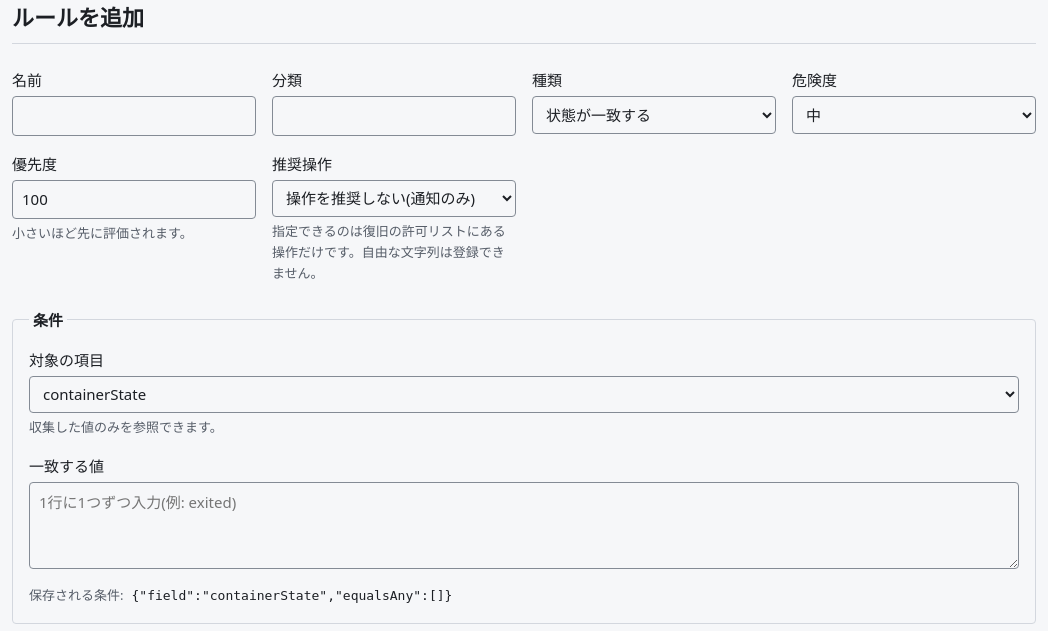
RuleEditView › サーバーが条件を拒否したらその理由を出し、一覧へ移らない
The image size is (1048, 631).
Type "重いルール" into the field with id "rule-name" at (134, 116), box x1=12 y1=96 x2=256 y2=136
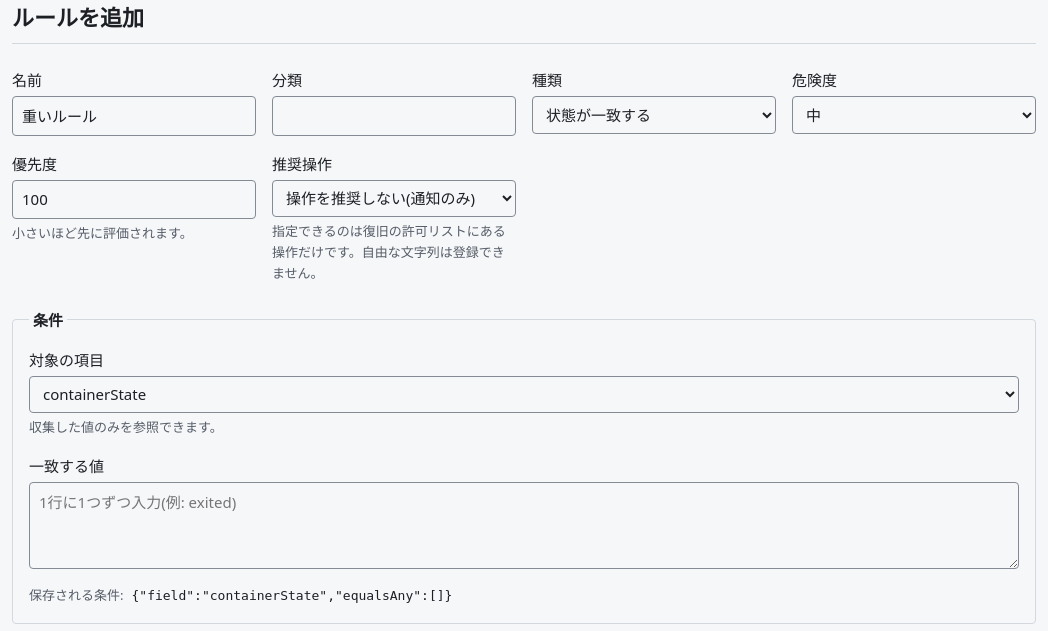
Type "UnknownLog" into the field with id "rule-classification" at (394, 116), box x1=272 y1=96 x2=516 y2=136
(page scrolled)
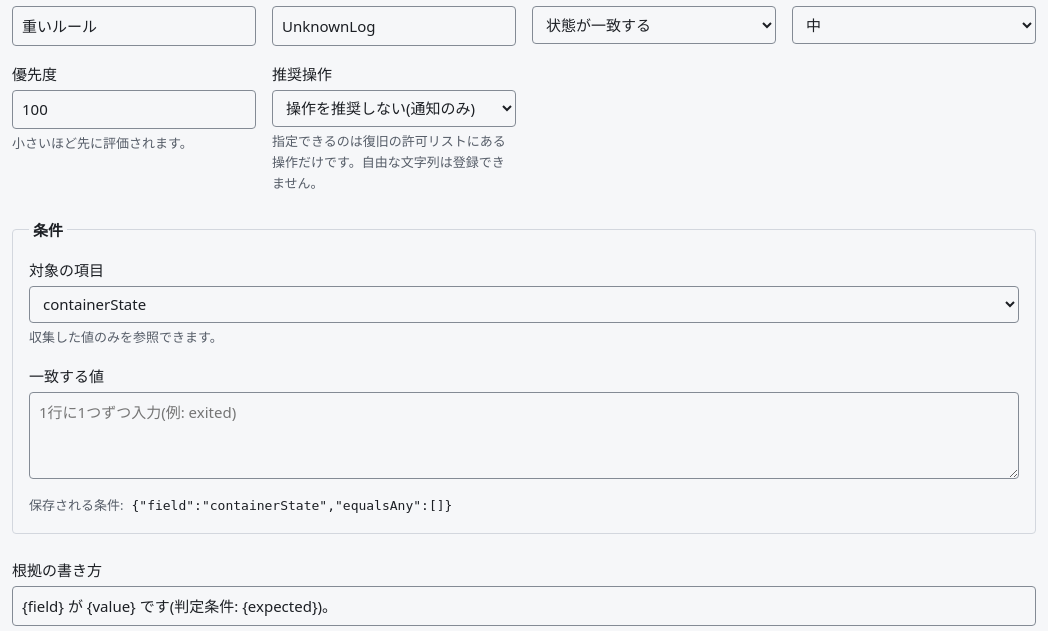
Submit the form
(page scrolled)
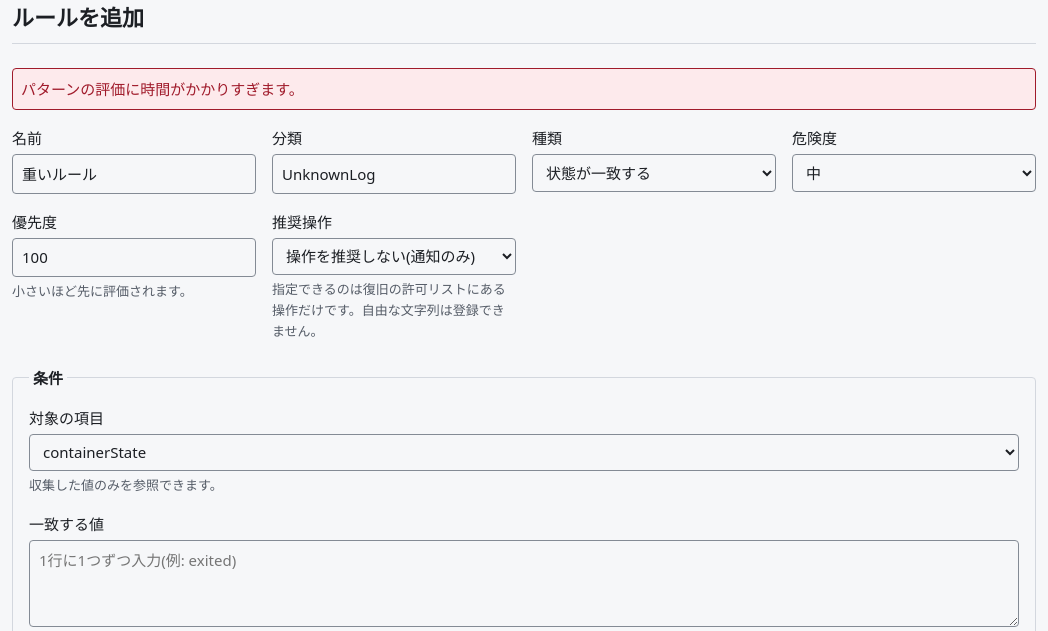
Check: the message with test id "save-error" shows "時間がかかりすぎます", box x1=21 y1=79 x2=304 y2=99
